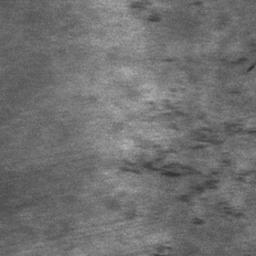Rolled in scale: (120, 145, 256, 192), (189, 116, 256, 151), (231, 43, 256, 73), (164, 105, 185, 130), (218, 202, 245, 219), (153, 246, 172, 256), (130, 0, 141, 11), (147, 17, 161, 23), (193, 220, 205, 226), (193, 0, 202, 6)
